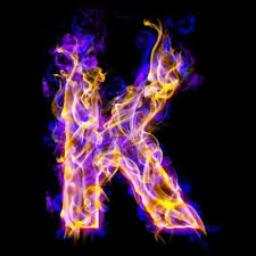k: (28, 20, 222, 256)
